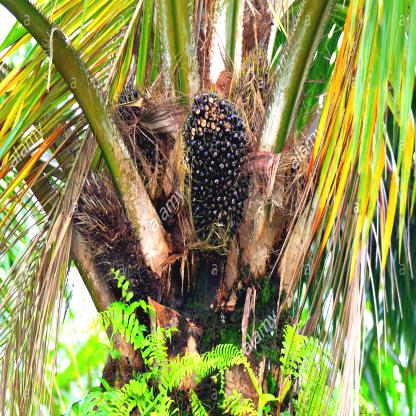palm-oil: (177, 83, 259, 244), (78, 162, 128, 262), (115, 85, 158, 177), (239, 44, 273, 112)
